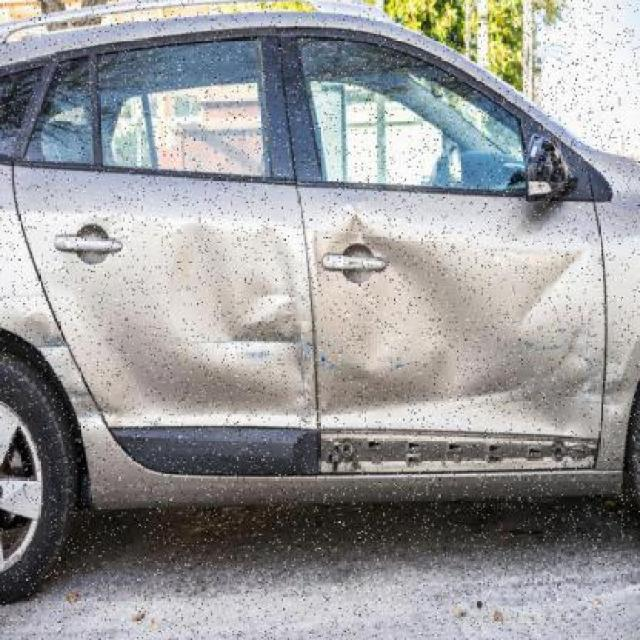doorouter-dent: (316, 188, 596, 437), (80, 179, 310, 433)
quaterpanel-dent: (0, 306, 60, 497)
